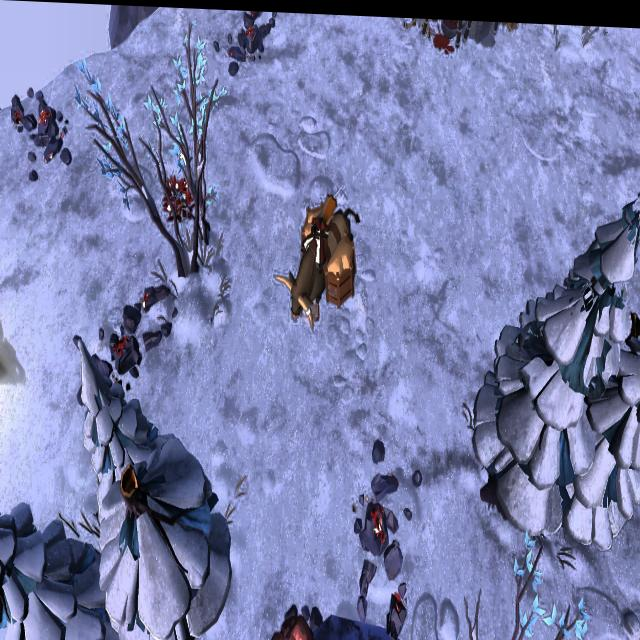fiber_t5: (162, 175, 196, 222)
